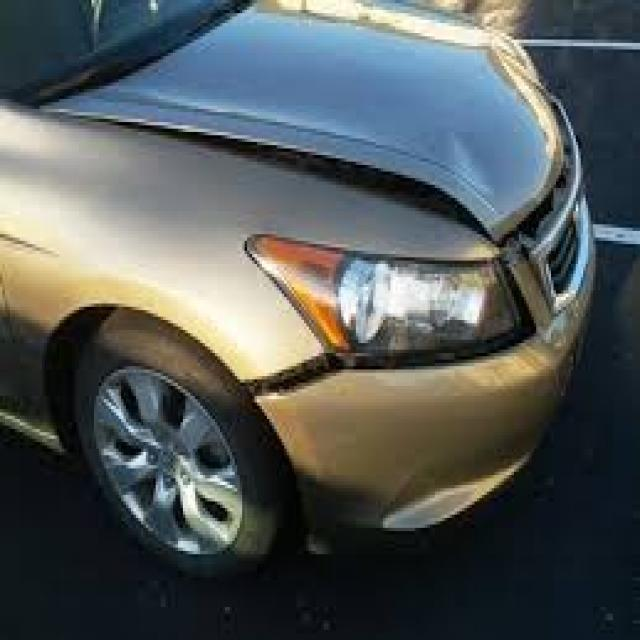minor: (97, 0, 583, 277)
